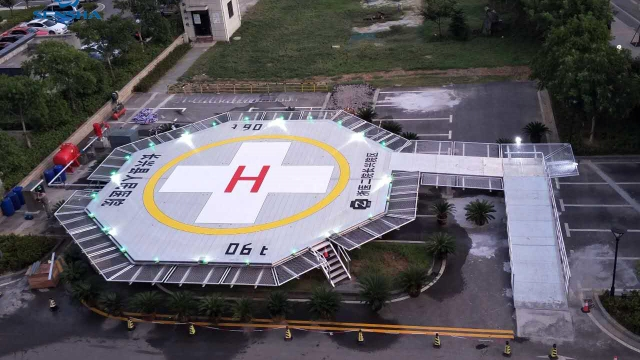H: (224, 165, 270, 193)
